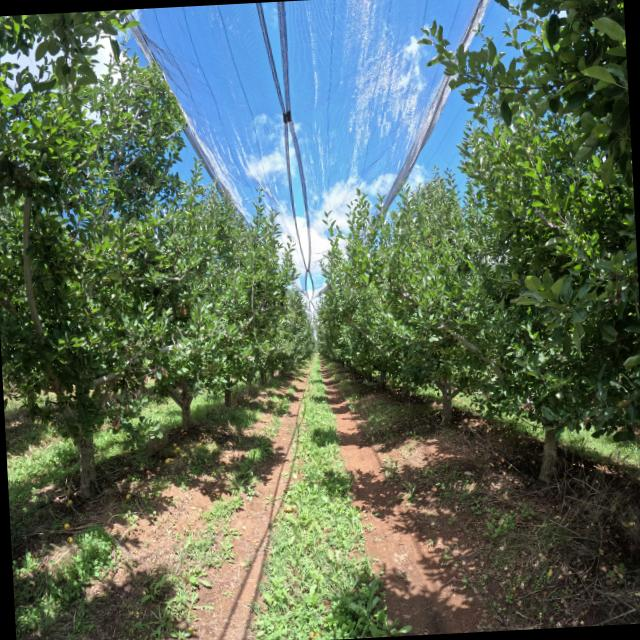-FireBlight-: (144, 366, 168, 385), (124, 379, 130, 413), (112, 410, 120, 431), (132, 385, 143, 400), (178, 305, 188, 316), (124, 345, 131, 358)
